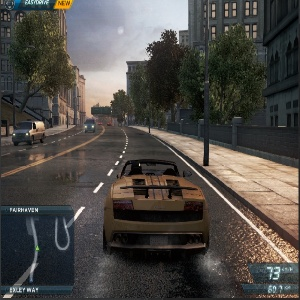ad: (91, 106, 112, 114)
building: (1, 4, 86, 124)
tree: (194, 34, 259, 143), (10, 19, 70, 120), (143, 38, 187, 126), (107, 83, 133, 125)
vehicle: (10, 119, 46, 146), (83, 117, 96, 132)
